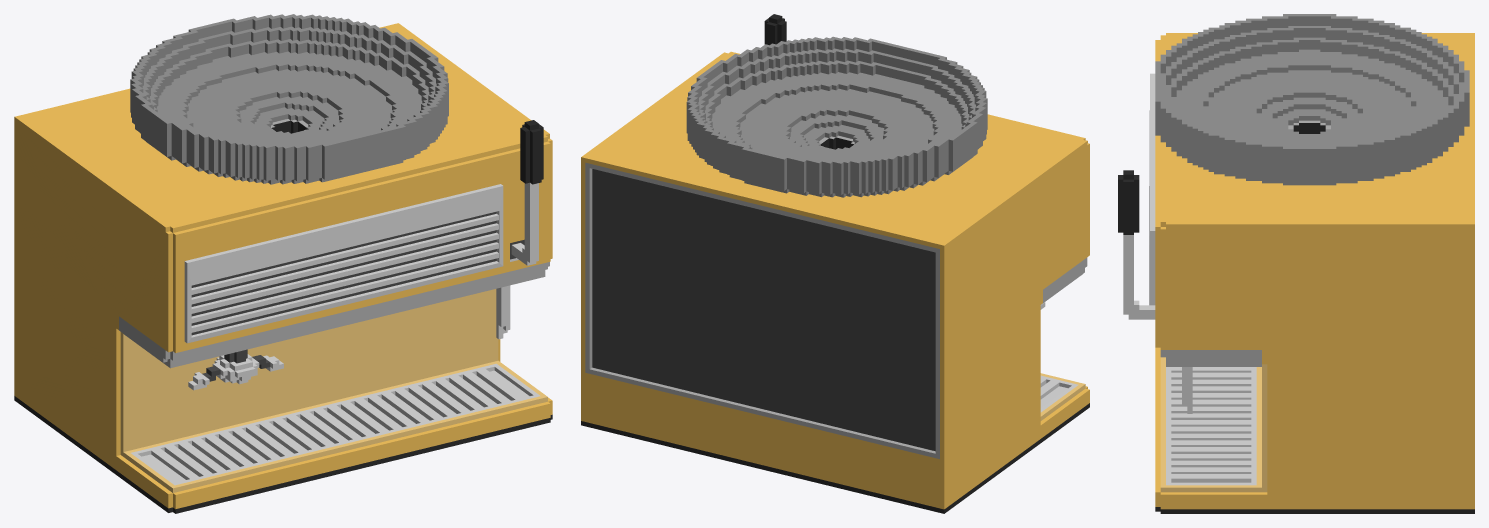
Rendered from EspressoMachine.fbx.
3 views of the same model, side by side, from view 1: azimuth 30°, elevation 25°; view 2: azimuth 150°, elevation 25°; view 3: azimuth 270°, elevation 25° (orthographic). The views are drawn at different scales.
Visible parts, largest first — view 1: EspressoMachine, EspressoMachineBowl, FrotherHandle; view 2: EspressoMachine, EspressoMachineBowl, FrotherHandle; view 3: EspressoMachine, EspressoMachineBowl, FrotherHandle.
Part boxes in pixels (x1,y1,x2,y2): EspressoMachine: (14,23,552,513); EspressoMachineBowl: (130,14,448,184); FrotherHandle: (511,120,543,265); EspressoMachine: (581,51,1089,513); EspressoMachineBowl: (686,36,987,197); FrotherHandle: (764,14,786,45); EspressoMachine: (1149,33,1474,513); EspressoMachineBowl: (1155,14,1469,185); FrotherHandle: (1118,170,1155,319).
Bounding box in the file's own units: 8.5 × 7 × 6.7.
Materials: 2 (2 with a texture image).
